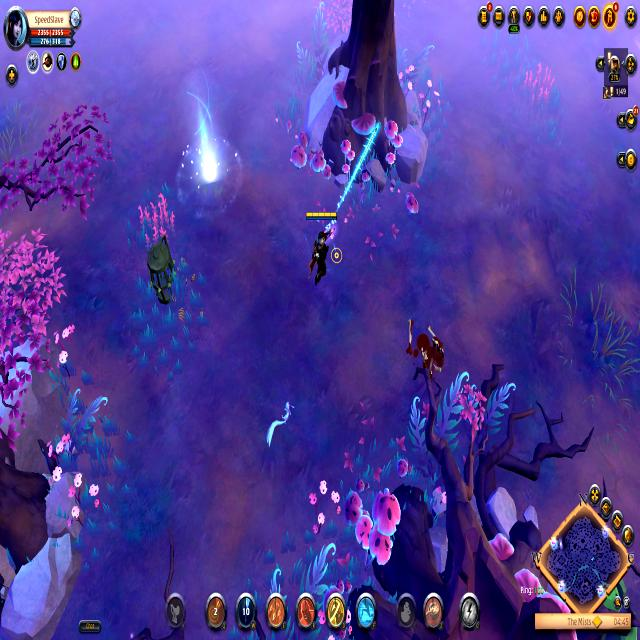red: (302, 206, 339, 292)
